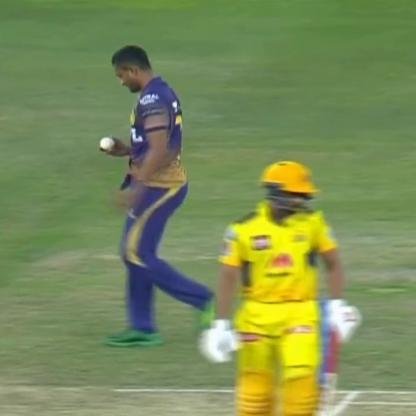ball: (93, 131, 119, 152)
